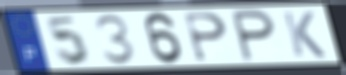3: (95, 13, 137, 66)
5: (43, 15, 90, 67)
6: (142, 11, 184, 65)
K: (280, 10, 329, 59)
P: (230, 9, 278, 64), (182, 12, 230, 63)
